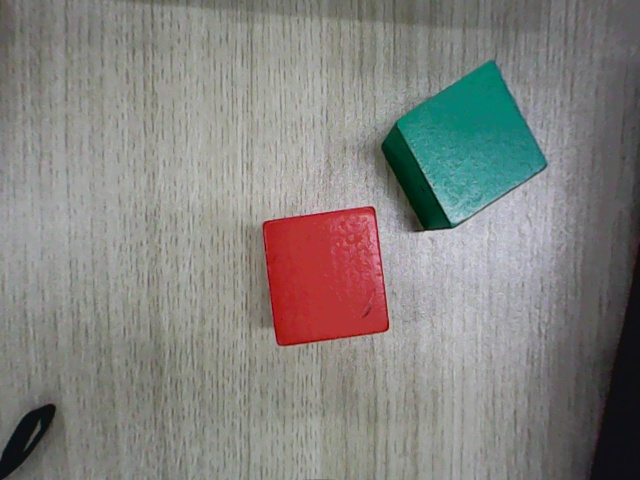upside of big cube: (394, 60, 549, 227), (262, 208, 390, 348)
